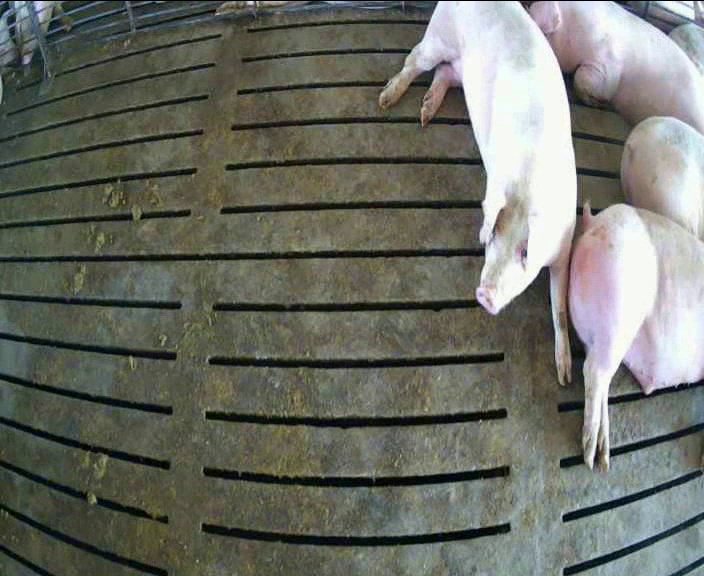pig: (379, 2, 576, 384), (569, 202, 703, 472), (529, 2, 703, 134), (621, 117, 703, 240)
